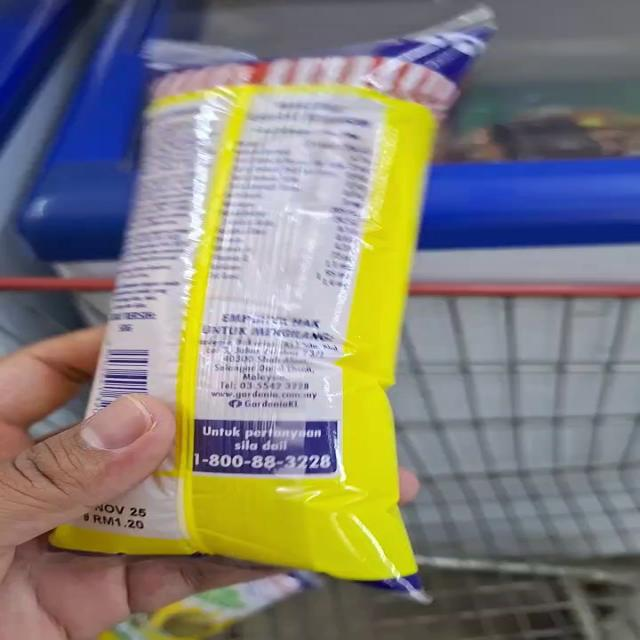Roti: (53, 297, 437, 578), (129, 30, 471, 337), (90, 592, 337, 640)
